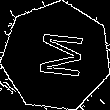M_W: (29, 31, 84, 82)
